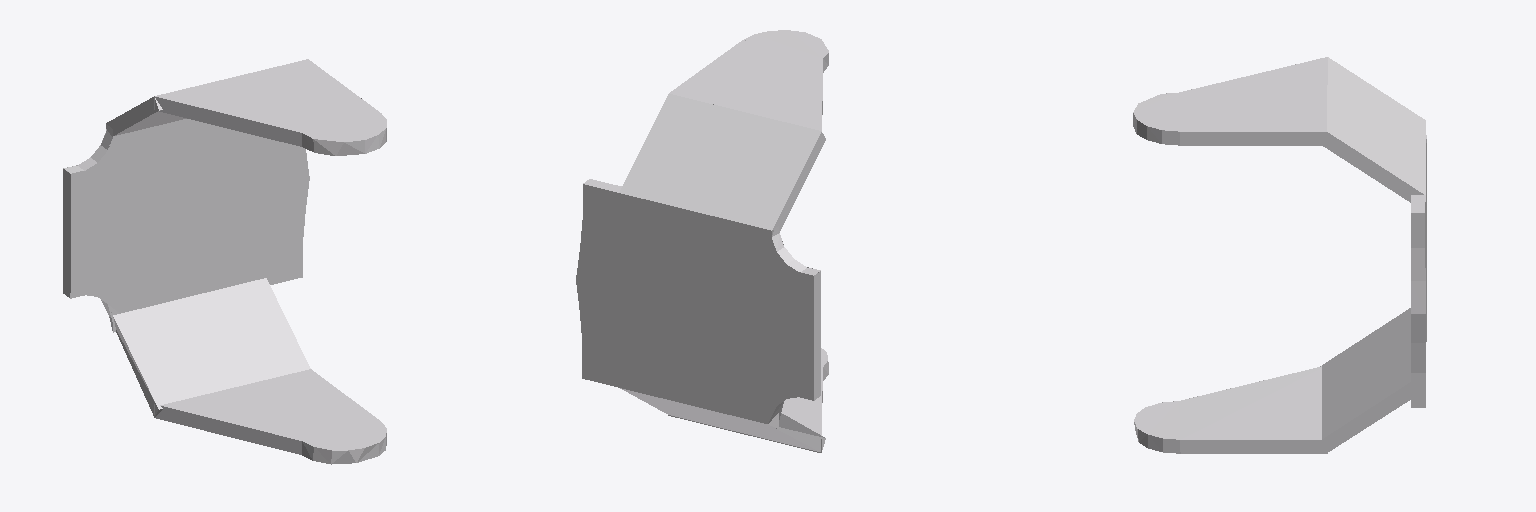
3 renders of one model, left to right at view 1: azimuth 30°, elevation 25°; view 2: azimuth 150°, elevation 25°; view 3: azimuth 270°, elevation 25°, orthographic.
Bounding box in the file's own units: 0.3594 × 0.4641 × 0.3832.
Materials: 1 (1 with a texture image).